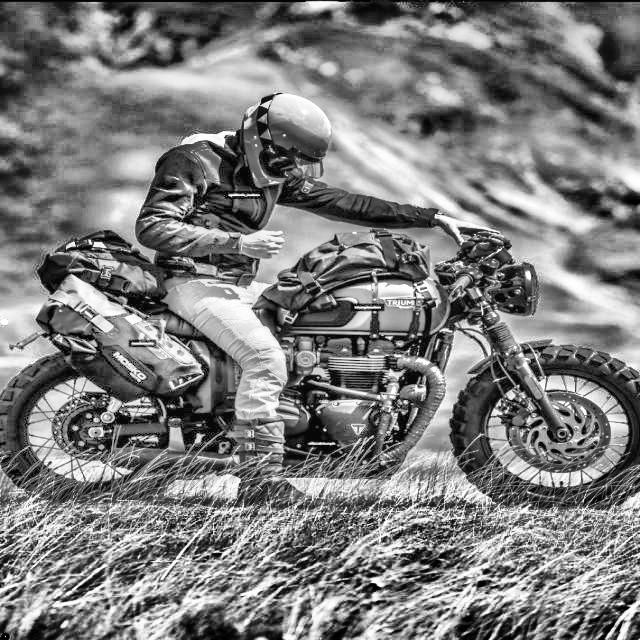Helmet: (239, 88, 337, 194)
